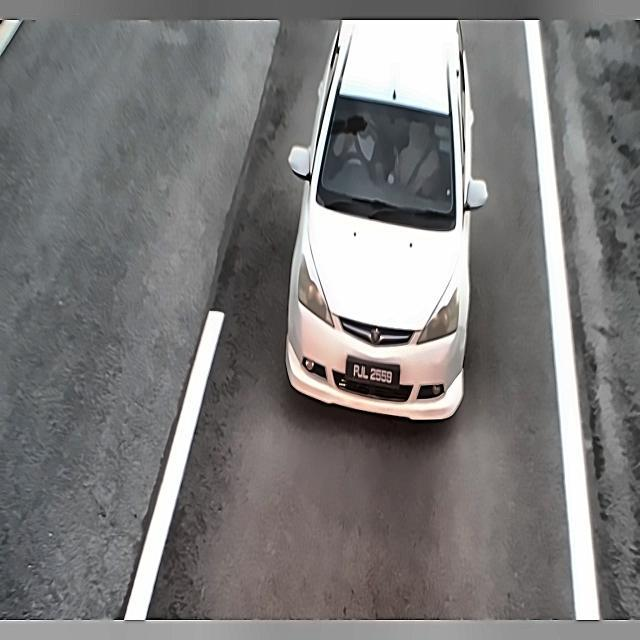car: (346, 351, 405, 400)
